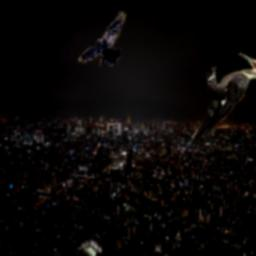Crow: (77, 9, 126, 67)
Woodpecker: (190, 50, 256, 150)
